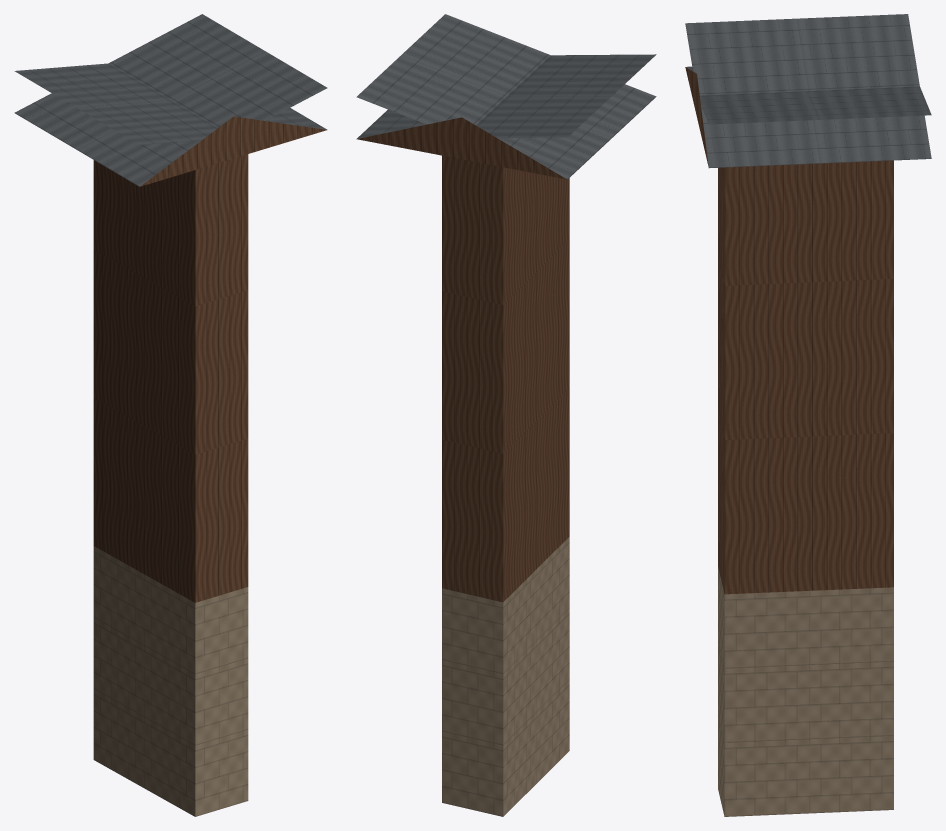
The model's file is bld_c3_-3_564.gltf.
3 renders of one model, left to right at view 1: azimuth 30°, elevation 25°; view 2: azimuth 150°, elevation 25°; view 3: azimuth 270°, elevation 25°, orthographic. The views are drawn at different scales.
Parts seen in each view (by area): view 1: bld_c3_-3_564; view 2: bld_c3_-3_564; view 3: bld_c3_-3_564.
Part boxes in pixels (<box>): bld_c3_-3_564: <box>14,14,327,816</box>; bld_c3_-3_564: <box>356,14,656,816</box>; bld_c3_-3_564: <box>685,14,931,816</box>.
Bounding box in the file's own units: 5.43 × 16.7 × 5.12.
4 materials, 4 textured.
